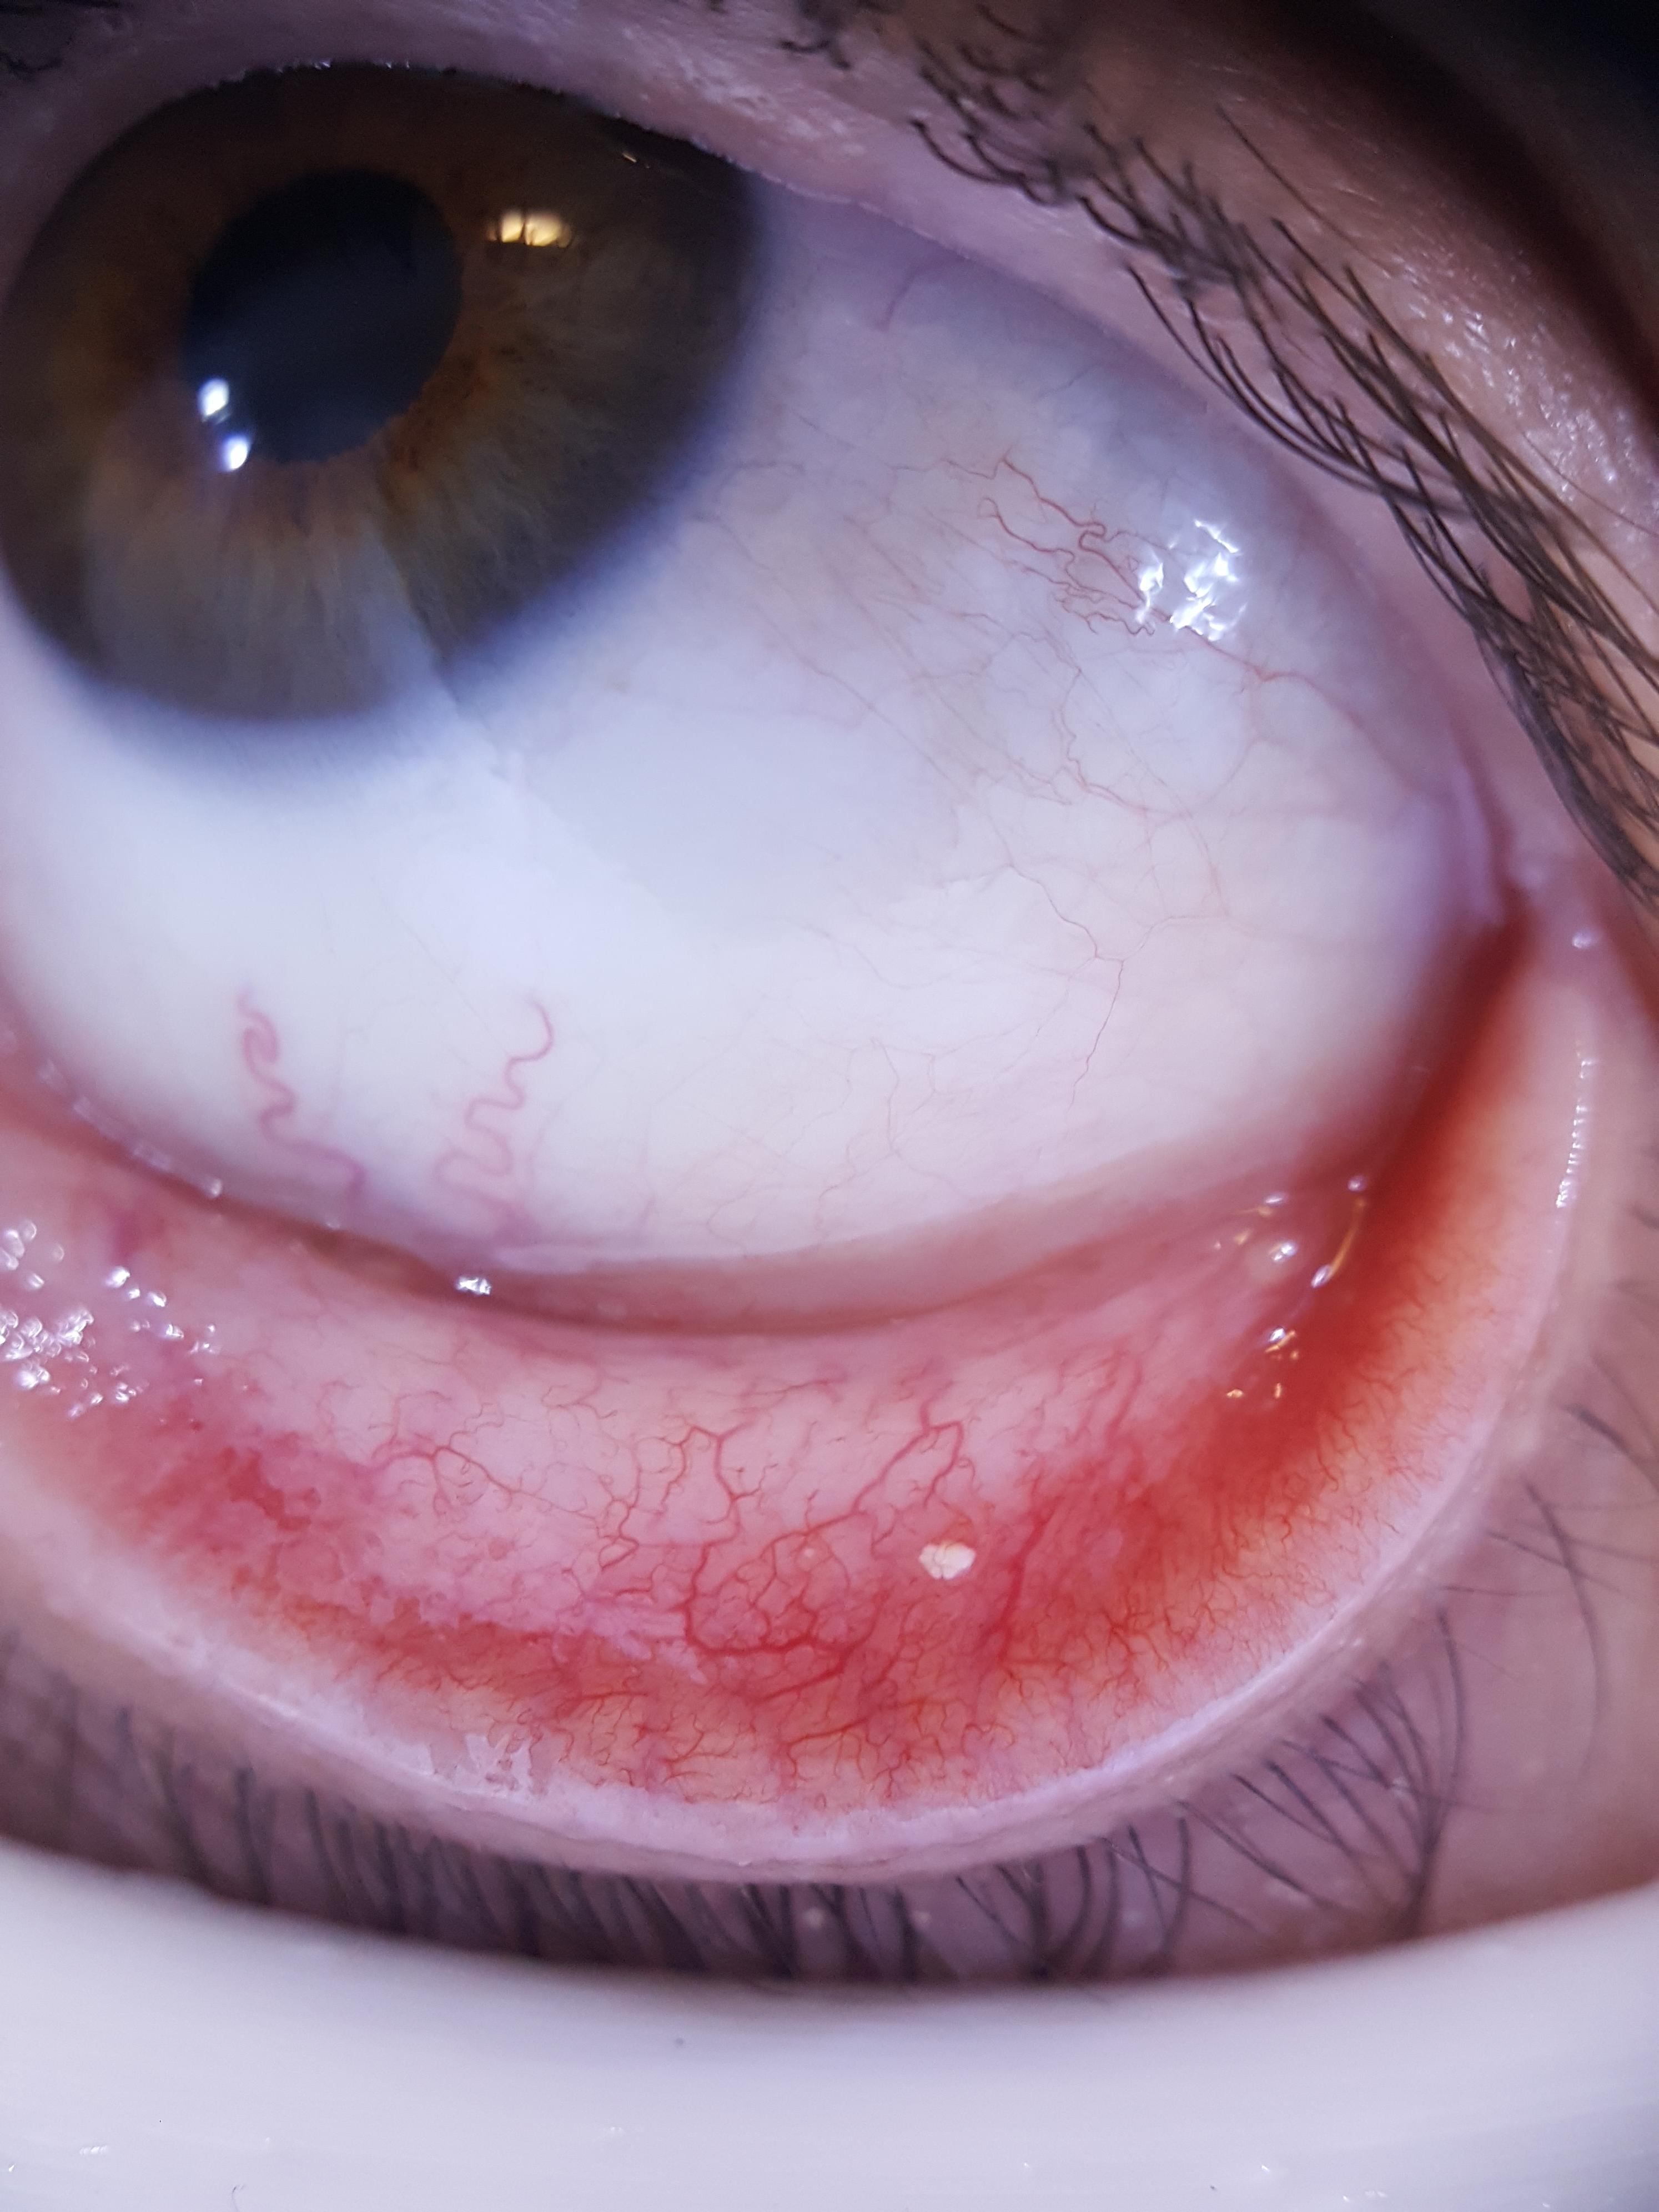forniceal: (0, 1021, 1363, 1562)
forniceal_palpebral: (0, 1001, 1460, 1806)
palpebral: (0, 1146, 1443, 1792)
